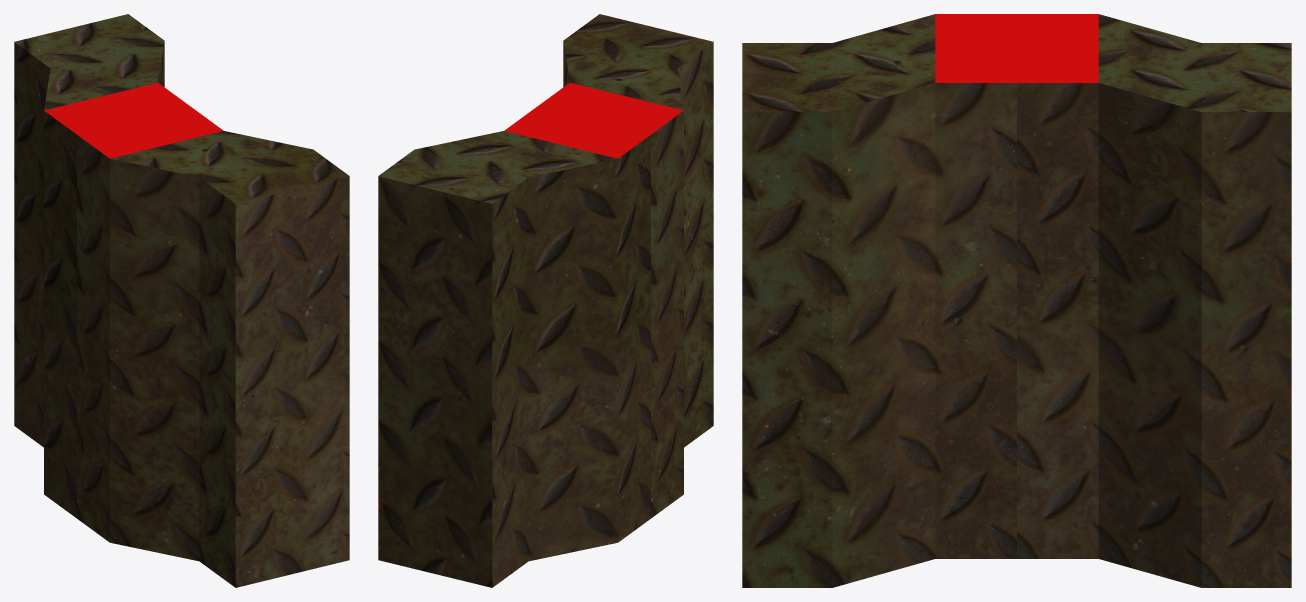
Rendered from big_block.fbx.
3 renders of one model, left to right at view 1: azimuth 30°, elevation 25°; view 2: azimuth 150°, elevation 25°; view 3: azimuth 270°, elevation 25°, orthographic. The views are drawn at different scales.
Visible parts, largest first — view 1: block_floor_1_geo; view 2: block_floor_1_geo; view 3: block_floor_1_geo.
Boxes of the visible parts, x1,y1,x2,y2 form: block_floor_1_geo: (14, 14, 349, 587); block_floor_1_geo: (378, 14, 713, 587); block_floor_1_geo: (742, 14, 1291, 587).
Bounding box in the file's own units: 52.99 × 120 × 125.
